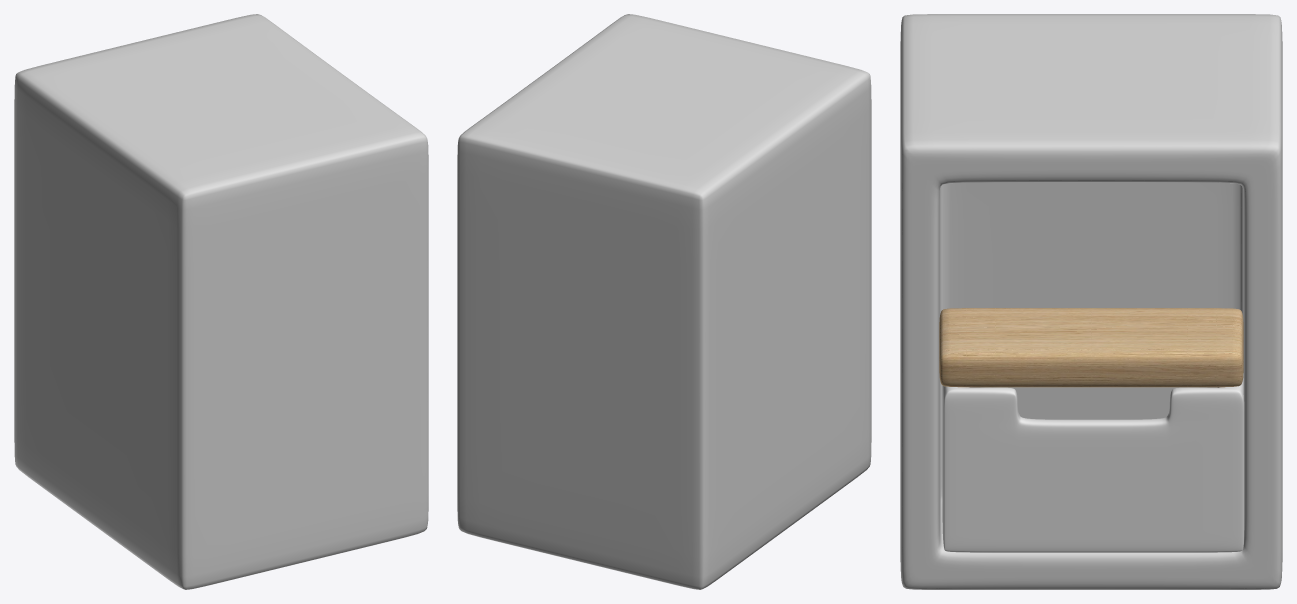
The model's file is cabinet3.glb.
The picture shows the model from 3 angles, left to right: view 1: azimuth 30°, elevation 25°; view 2: azimuth 150°, elevation 25°; view 3: azimuth 270°, elevation 25°; orthographic projection. The views are drawn at different scales.
Parts seen in each view (by area): view 1: cabinet3; view 2: cabinet3; view 3: cabinet3.
Boxes of the visible parts, x1,y1,x2,y2 form: cabinet3: [14, 14, 428, 589]; cabinet3: [457, 14, 871, 589]; cabinet3: [900, 14, 1282, 589].
Size of the model in its own units: 0.3875 by 0.5961 by 0.4611.
Materials: 3 (1 with a texture image).
